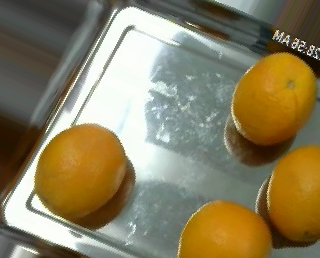Orange: (34, 123, 129, 220), (231, 51, 317, 146), (176, 200, 272, 258), (266, 143, 320, 240)
